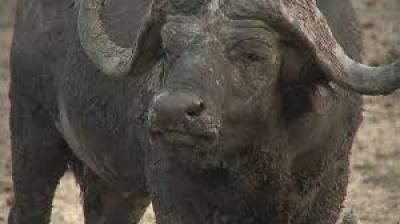buffalo: (7, 0, 400, 224)
